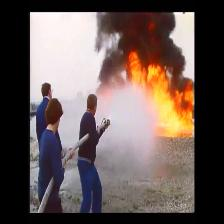fire: (131, 66, 164, 91)
smoke: (112, 15, 177, 58)
